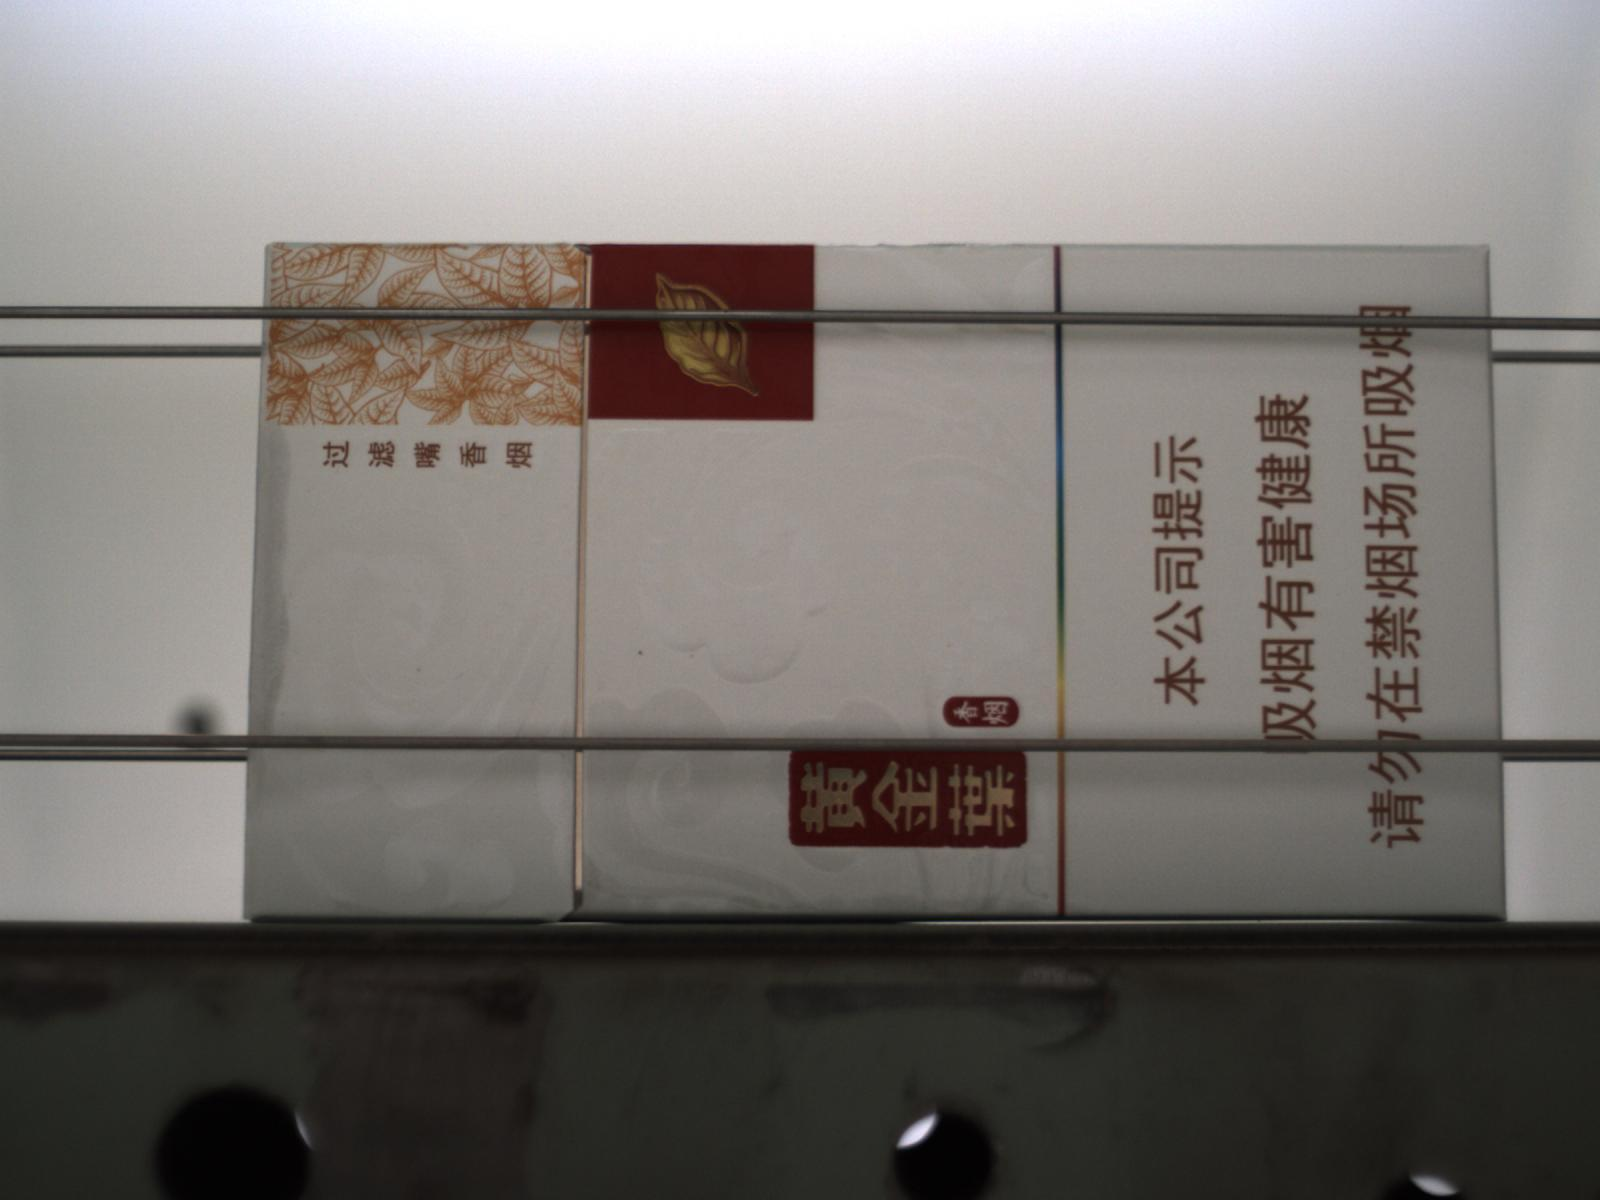areaOil: (244, 345, 294, 771)
dirtySpot: (636, 647, 648, 659), (414, 666, 425, 676), (688, 653, 695, 661)
